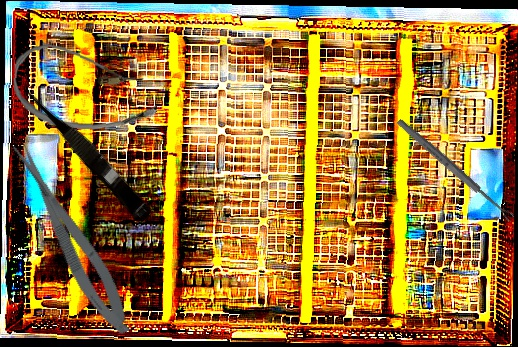Cannula: (11, 42, 161, 134)
Micro Scissor: (6, 133, 139, 342), (16, 75, 159, 227)
Surgical Spoon: (395, 117, 515, 223)
